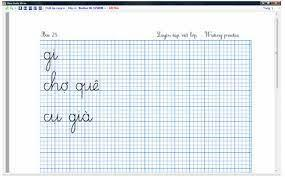text: (43, 70, 101, 100), (43, 110, 94, 134), (156, 30, 198, 40), (43, 49, 59, 72), (204, 31, 240, 40), (40, 31, 58, 38)
